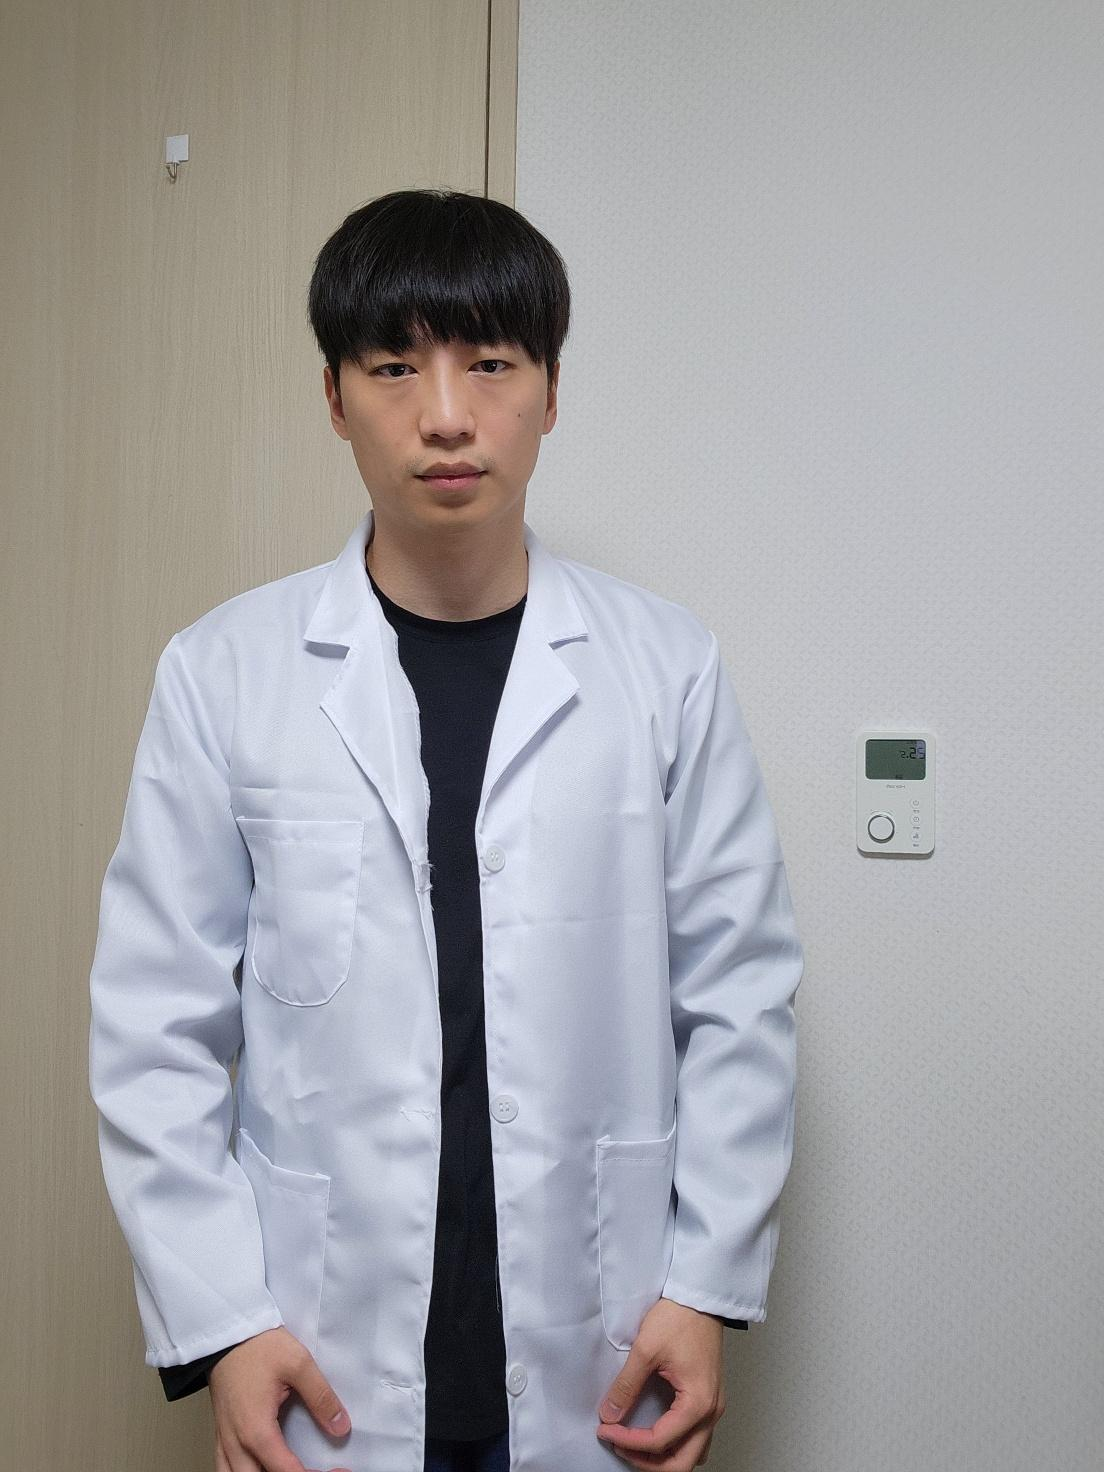lab_coat: (86, 508, 807, 1471)
